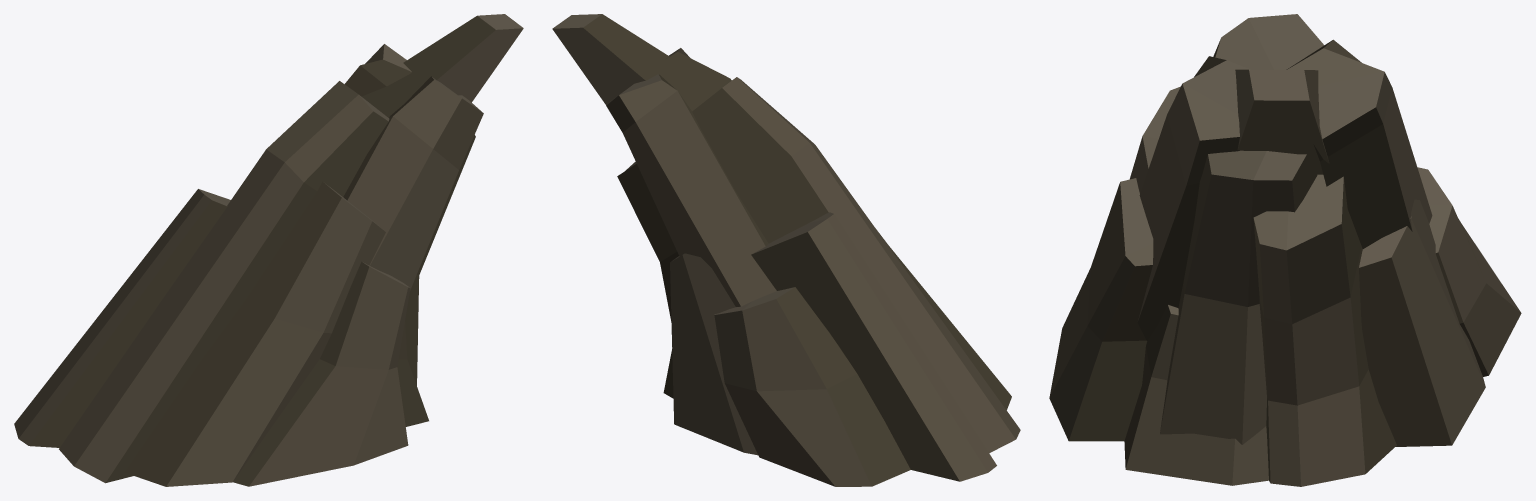
File: caillou mechant2.fbx
3 views of the same model, side by side, from view 1: azimuth 30°, elevation 25°; view 2: azimuth 150°, elevation 25°; view 3: azimuth 270°, elevation 25° (orthographic). The views are drawn at different scales.
Parts seen in each view (by area): view 1: caillou_mechant_1; view 2: caillou_mechant_1; view 3: caillou_mechant_1.
Boxes of the visible parts, box(x1,y1,x2,y2) form: caillou_mechant_1: box(14, 14, 523, 486); caillou_mechant_1: box(552, 14, 1020, 486); caillou_mechant_1: box(1049, 14, 1521, 486).
Size of the model in its own units: 10.02 by 6.98 by 6.14.
